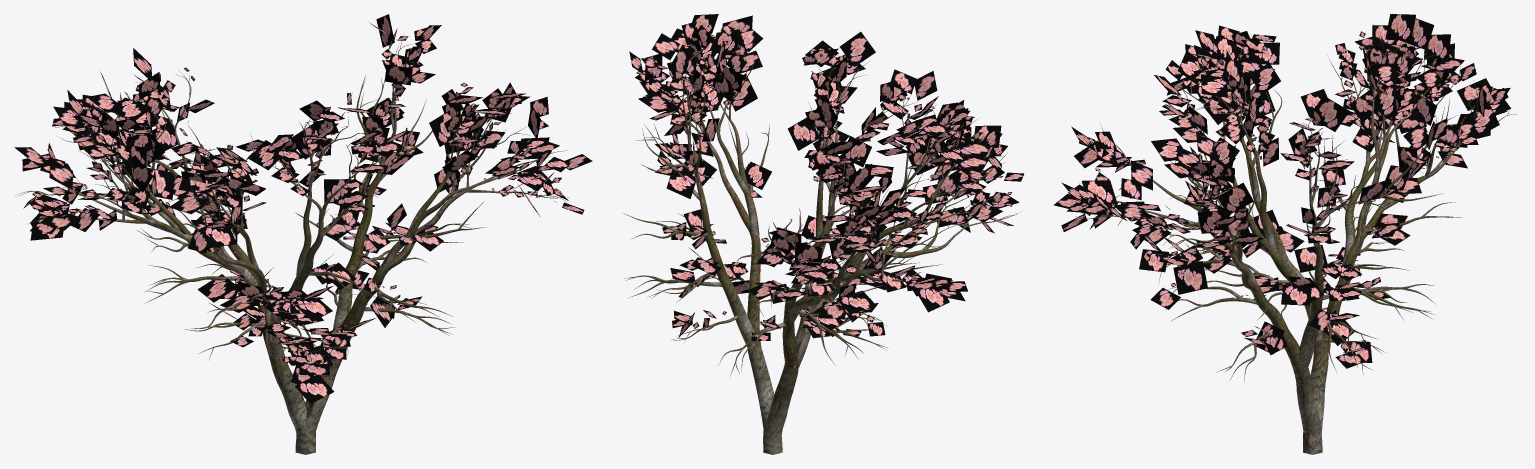
File: asset.glb
3 renders of one model, left to right at view 1: azimuth 30°, elevation 25°; view 2: azimuth 150°, elevation 25°; view 3: azimuth 270°, elevation 25°, orthographic. The views are drawn at different scales.
Visible parts, largest first — view 1: leaves, tree.001; view 2: leaves, tree.001; view 3: leaves, tree.001.
Part boxes in pixels (x1=…): leaves: x1=14, y1=14, x2=592, y2=404; tree.001: x1=15, y1=33, x2=568, y2=454; leaves: x1=629, y1=14, x2=1023, y2=341; tree.001: x1=623, y1=35, x2=1021, y2=454; leaves: x1=1053, y1=14, x2=1510, y2=368; tree.001: x1=1071, y1=29, x2=1516, y2=454.
Size of the model in its own units: 7.89 by 6.85 by 7.31.
2 materials, 2 textured.
